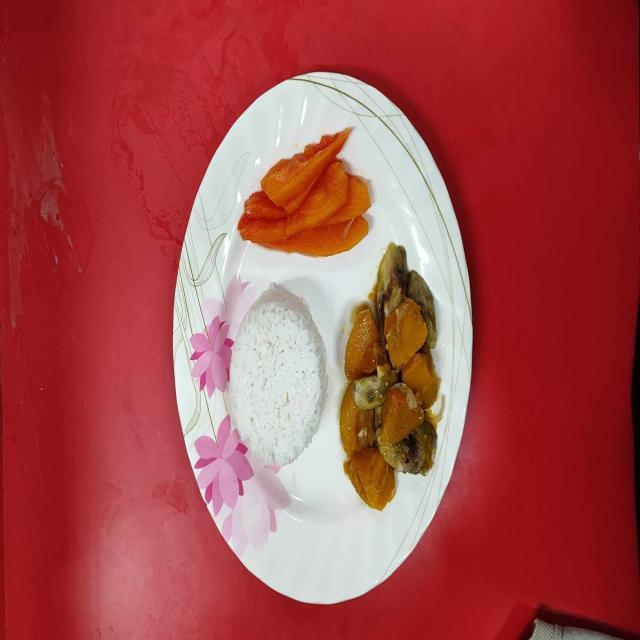Chicken -Chicken Inasal-: (235, 305, 320, 457)
